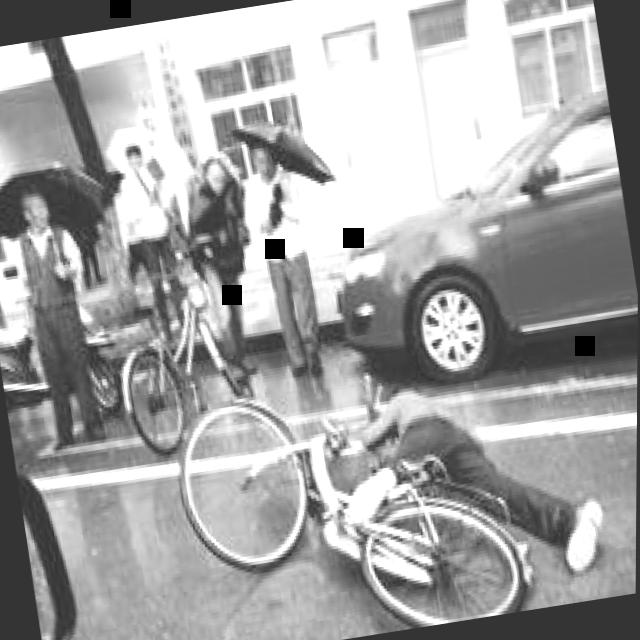Fall-Detected: (287, 324, 632, 598)
